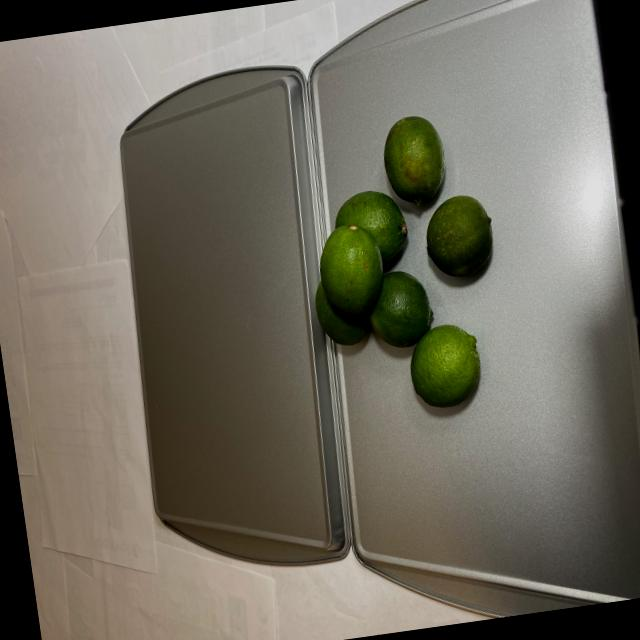lemon: (290, 101, 522, 428)
